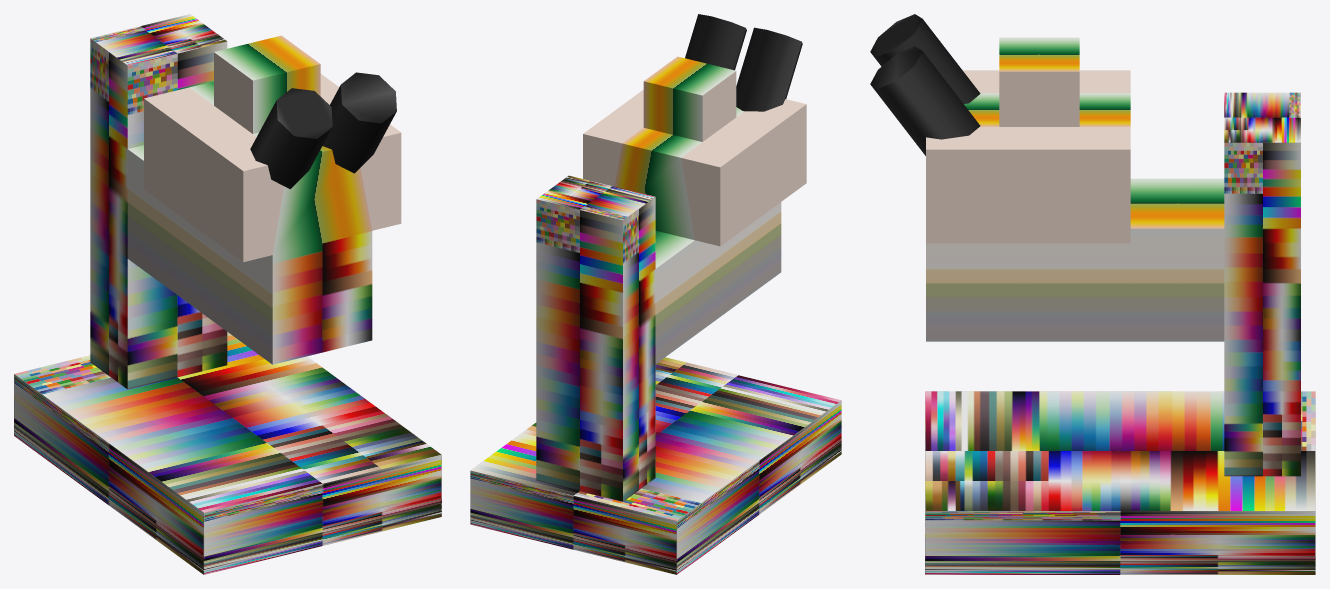
Rendered from CR_sci_Microscope_001_Collider.FBX.
3 views of the same model, side by side, from view 1: azimuth 30°, elevation 25°; view 2: azimuth 150°, elevation 25°; view 3: azimuth 270°, elevation 25° (orthographic). The views are drawn at different scales.
Parts seen in each view (by area): view 1: CR_sci_Microscope_001_Collider; view 2: CR_sci_Microscope_001_Collider; view 3: CR_sci_Microscope_001_Collider.
Boxes of the visible parts, x1,y1,x2,y2 form: CR_sci_Microscope_001_Collider: [14, 14, 441, 574]; CR_sci_Microscope_001_Collider: [470, 14, 841, 574]; CR_sci_Microscope_001_Collider: [870, 14, 1315, 574].
Bounding box in the file's own units: 21.49 × 40.26 × 33.85.
